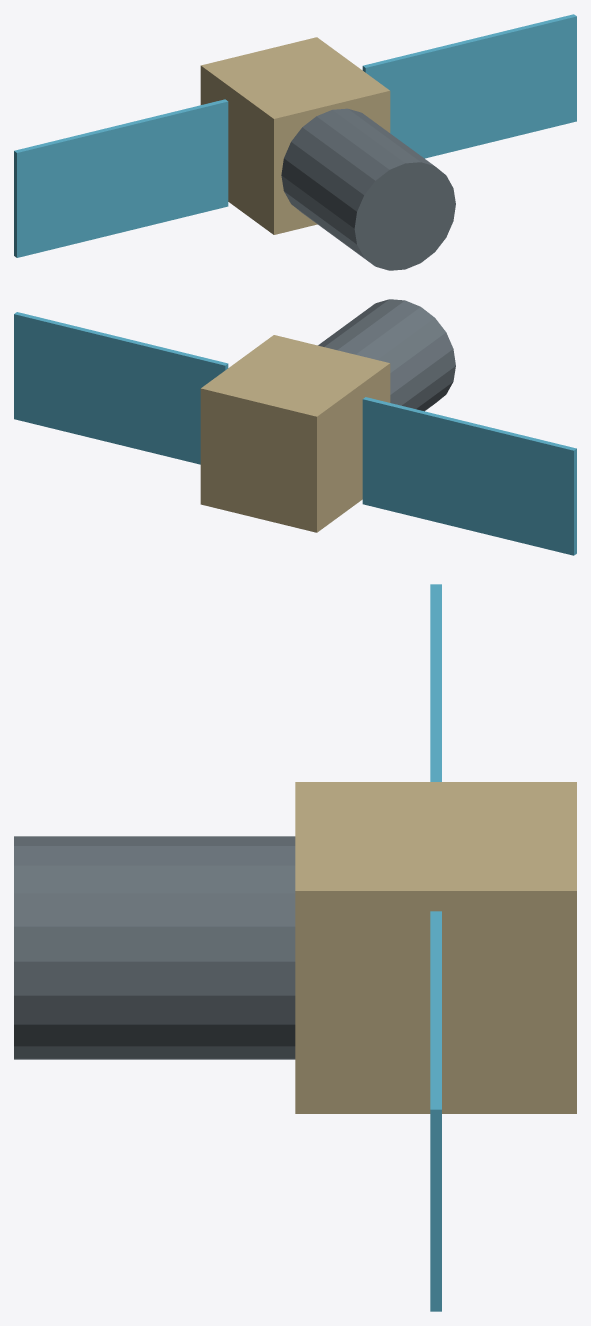
Rendered from kepler.glb.
3 views of the same model, one above another, from view 1: azimuth 30°, elevation 25°; view 2: azimuth 150°, elevation 25°; view 3: azimuth 270°, elevation 25° (orthographic). The views are drawn at different scales.
Parts seen in each view (by area): view 1: solar_array_-1, solar_array_1, optical_tube, main_bus; view 2: main_bus, solar_array_-1, solar_array_1, optical_tube; view 3: main_bus, optical_tube, solar_array_1, solar_array_-1.
Part boxes in pixels (left/top/right/bottom): solar_array_-1: left=14, top=99, right=228, bottom=257; solar_array_1: left=362, top=14, right=576, bottom=158; optical_tube: left=281, top=108, right=455, bottom=270; main_bus: left=200, top=37, right=390, bottom=234; main_bus: left=200, top=335, right=390, bottom=532; solar_array_-1: left=362, top=397, right=576, bottom=555; solar_array_1: left=14, top=312, right=228, bottom=464; optical_tube: left=318, top=299, right=455, bottom=411; main_bus: left=295, top=782, right=576, bottom=1113; optical_tube: left=14, top=836, right=295, bottom=1059; solar_array_1: left=430, top=911, right=441, bottom=1311; solar_array_-1: left=430, top=584, right=441, bottom=781.
Bounding box in the file's own units: 5.3 × 1.05 × 2.4.
